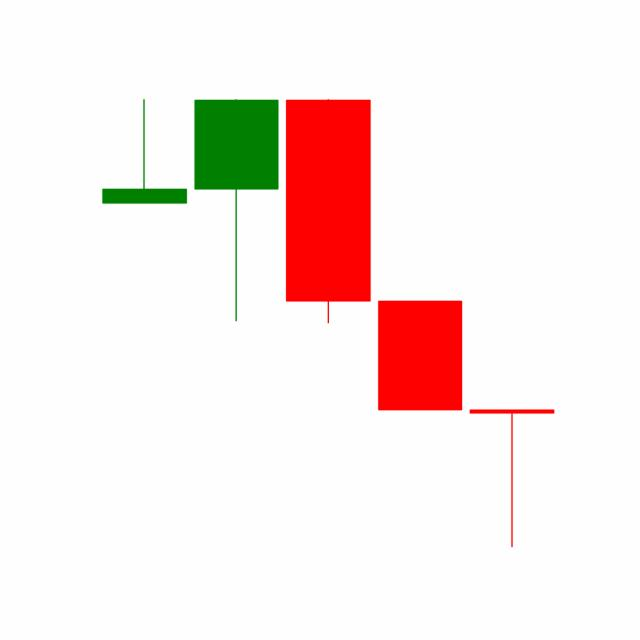Marubozu: (373, 299, 467, 411)
